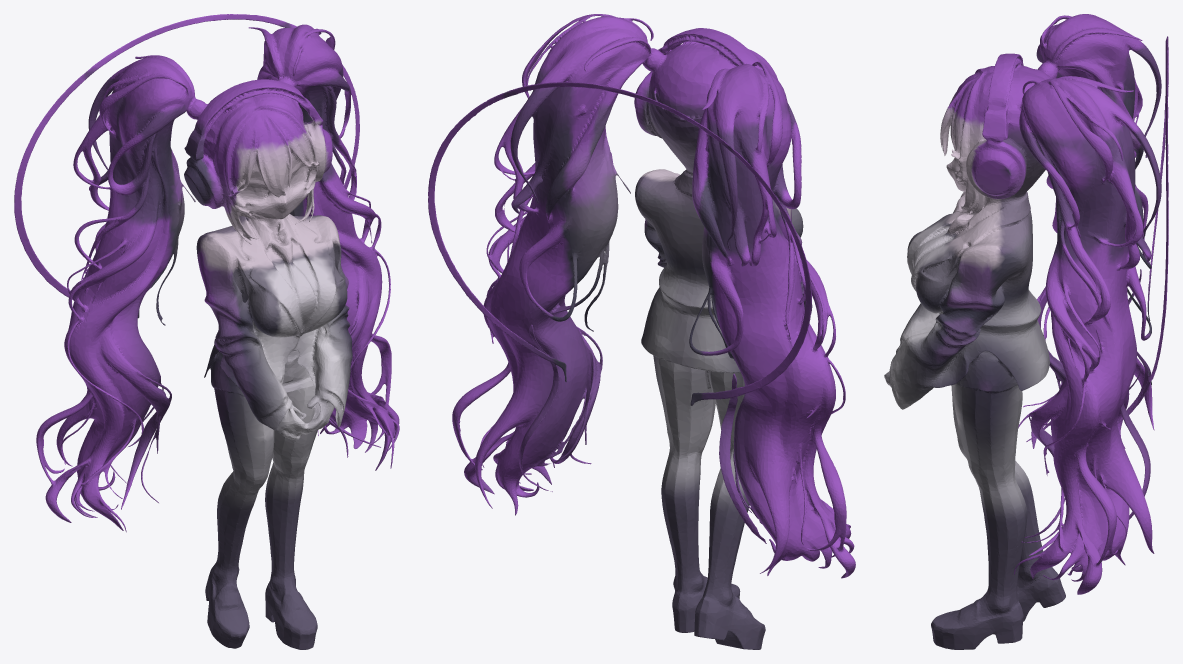
The model's file is vivi_refined.glb.
The picture shows the model from 3 angles, left to right: view 1: azimuth 30°, elevation 25°; view 2: azimuth 150°, elevation 25°; view 3: azimuth 270°, elevation 25°; orthographic projection. The views are drawn at different scales.
Parts seen in each view (by area): view 1: world; view 2: world; view 3: world.
Part boxes in pixels (x1,y1,x2,y2): world: (14,14,399,649); world: (428,14,855,649); world: (884,14,1168,649).
Size of the model in its own units: 1.24 by 1.9 by 0.8213.
